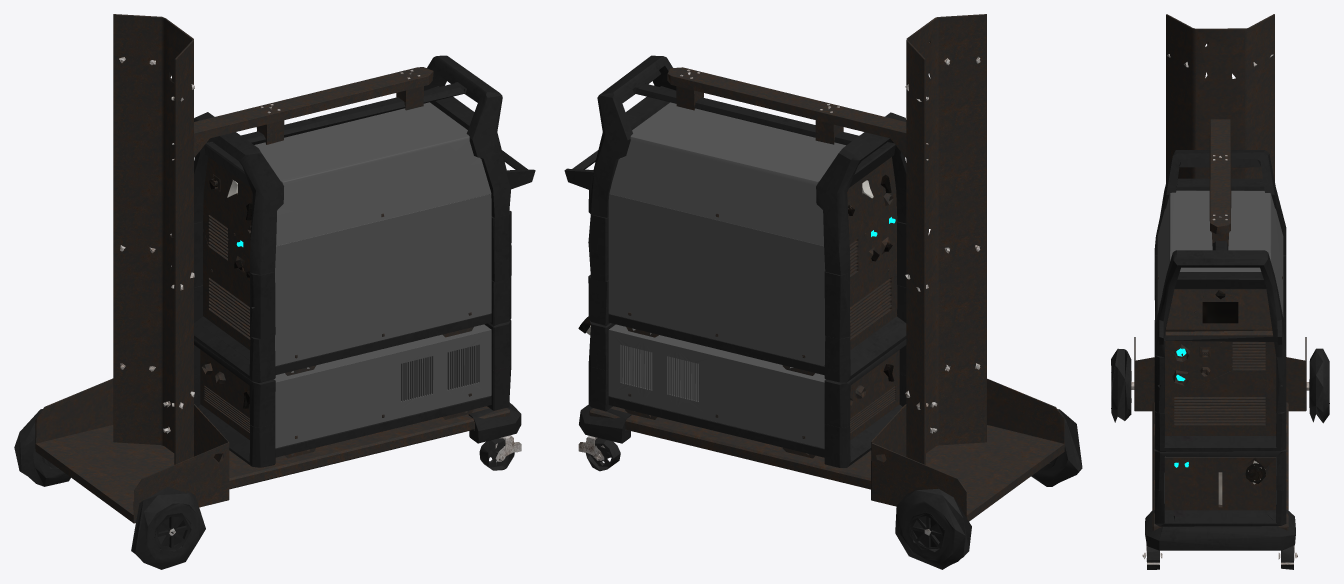
File: craft_r15_arc_forge.glb
3 renders of one model, left to right at view 1: azimuth 30°, elevation 25°; view 2: azimuth 150°, elevation 25°; view 3: azimuth 270°, elevation 25°, orthographic. The views are drawn at different scales.
Parts seen in each view (by area): view 1: craft_r15_arc_forge; view 2: craft_r15_arc_forge; view 3: craft_r15_arc_forge.
Boxes of the visible parts, bbox=[...] form: craft_r15_arc_forge: bbox=[14, 14, 535, 569]; craft_r15_arc_forge: bbox=[564, 14, 1082, 569]; craft_r15_arc_forge: bbox=[1111, 14, 1329, 569].
Bounding box in the file's own units: 1.06 × 1.14 × 0.5387.
Materials: 9 (7 with a texture image).
